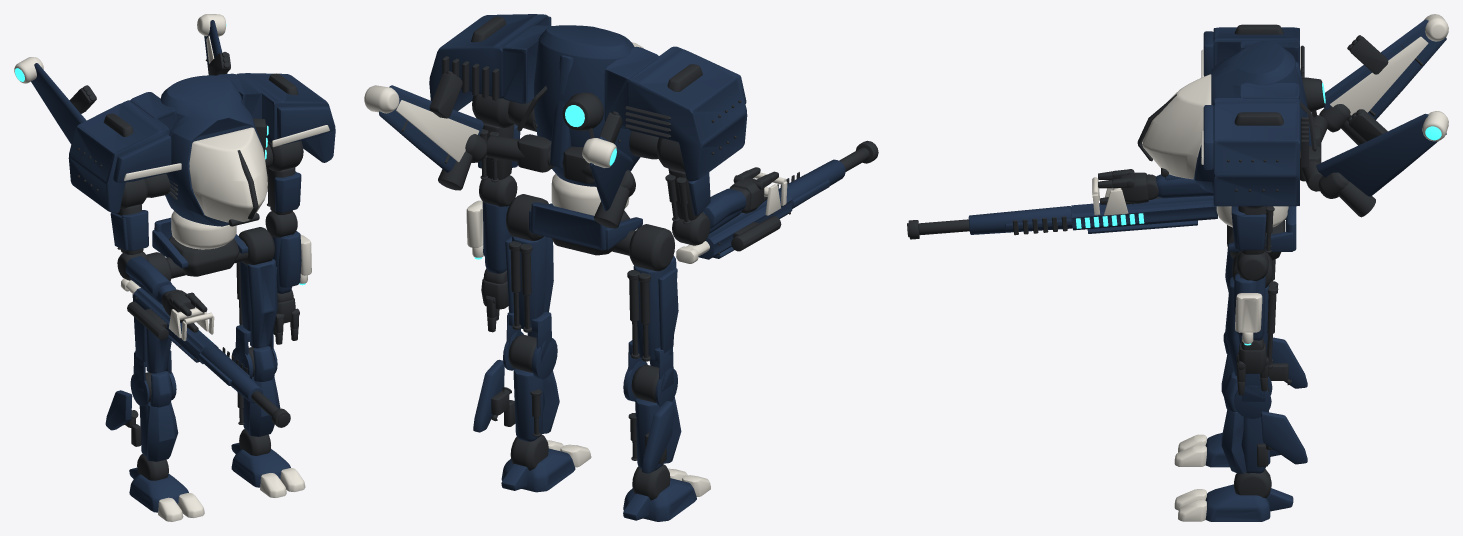
File: Titan_L1.fbx
The picture shows the model from 3 angles, left to right: view 1: azimuth 30°, elevation 25°; view 2: azimuth 150°, elevation 25°; view 3: azimuth 270°, elevation 25°; orthographic projection. The views are drawn at different scales.
Parts seen in each view (by area): view 1: L1_Mantle_R, L1_Torso_Upper, L1_Hatch, L1_Mantle_L, L1_Thigh_Plate_L, L1_Pelvis, L1_Wing_R, L1_Waist, L1_Shin_Plate_R, L1_Rifle_Shroud, L1_Rifle_Receiver, L1_Foot_R (+39 smaller); view 2: L1_Mantle_R, L1_Torso_Upper, L1_Mantle_L, L1_Collar, L1_Wing_L, L1_Wing_Top_L, L1_Wing_Boom_L, L1_Thigh_Clevis_L, L1_Thigh_Hub_R, L1_Shin_L, L1_Rifle_Receiver, L1_Thigh_L (+46 smaller); view 3: L1_Mantle_L, L1_Hatch, L1_Wing_L, L1_Torso_Upper, L1_Rifle_Receiver, L1_Wing_R, L1_Mantle_R, L1_Wing_Top_R, L1_Rifle_Shroud, L1_Foot_L, L1_Calf_Blade_L, L1_Thigh_Clevis_L (+23 smaller).
Boxes of the visible parts, bbox=[...] form: L1_Mantle_R: bbox=[68, 92, 176, 213]; L1_Torso_Upper: bbox=[160, 75, 262, 226]; L1_Hatch: bbox=[189, 127, 267, 222]; L1_Mantle_L: bbox=[217, 73, 335, 162]; L1_Thigh_Plate_L: bbox=[247, 259, 277, 348]; L1_Pelvis: bbox=[166, 236, 248, 278]; L1_Wing_R: bbox=[31, 63, 86, 143]; L1_Waist: bbox=[171, 211, 236, 249]; L1_Shin_Plate_R: bbox=[146, 402, 178, 461]; L1_Rifle_Shroud: bbox=[198, 345, 263, 403]; L1_Rifle_Receiver: bbox=[133, 288, 218, 363]; L1_Foot_R: bbox=[129, 474, 188, 512]; L1_Mantle_R: bbox=[604, 46, 747, 181]; L1_Torso_Upper: bbox=[534, 25, 640, 186]; L1_Mantle_L: bbox=[429, 14, 552, 110]; L1_Collar: bbox=[529, 202, 642, 250]; L1_Wing_L: bbox=[379, 85, 483, 172]; L1_Wing_Top_L: bbox=[396, 100, 479, 162]; L1_Wing_Boom_L: bbox=[486, 134, 554, 172]; L1_Thigh_Clevis_L: bbox=[503, 312, 557, 379]; L1_Thigh_Hub_R: bbox=[629, 224, 674, 271]; L1_Shin_L: bbox=[513, 368, 543, 441]; L1_Rifle_Receiver: bbox=[698, 191, 792, 259]; L1_Thigh_L: bbox=[512, 236, 546, 328]; L1_Mantle_L: bbox=[1203, 83, 1299, 206]; L1_Hatch: bbox=[1142, 74, 1211, 179]; L1_Wing_L: bbox=[1316, 113, 1446, 196]; L1_Torso_Upper: bbox=[1194, 41, 1306, 193]; L1_Rifle_Receiver: bbox=[1071, 196, 1217, 233]; L1_Wing_R: bbox=[1324, 19, 1446, 119]; L1_Mantle_R: bbox=[1203, 27, 1299, 76]; L1_Wing_Top_R: bbox=[1330, 36, 1428, 115]; L1_Rifle_Shroud: bbox=[968, 206, 1072, 234]; L1_Foot_L: bbox=[1205, 484, 1270, 521]; L1_Calf_Blade_L: bbox=[1261, 411, 1307, 464]; L1_Thigh_Clevis_L: bbox=[1234, 373, 1272, 418].
Bounding box in the file's own units: 3.56 × 5.81 × 6.63.
